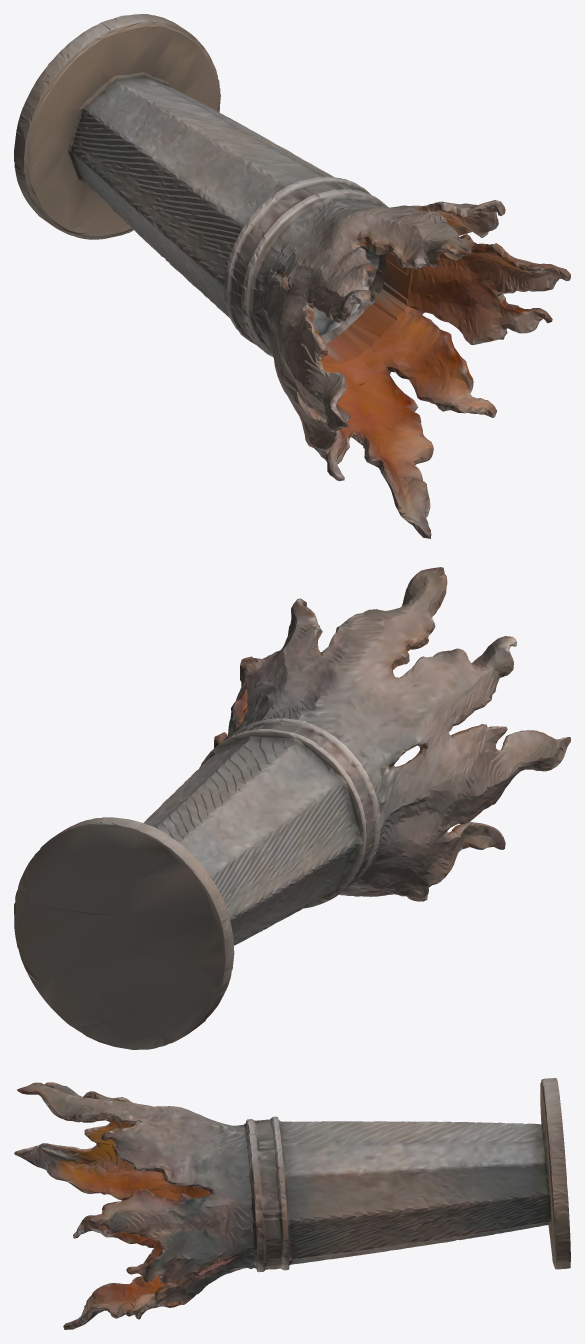
Rendered from H2-web.glb.
3 renders of one model, top to bottom at view 1: azimuth 30°, elevation 25°; view 2: azimuth 150°, elevation 25°; view 3: azimuth 270°, elevation 25°, orthographic. The views are drawn at different scales.
Parts seen in each view (by area): view 1: geometry_0; view 2: geometry_0; view 3: geometry_0.
Part boxes in pixels (x1=…): geometry_0: x1=14, y1=14, x2=570, y2=538; geometry_0: x1=14, y1=567, x2=570, y2=1049; geometry_0: x1=14, y1=1078, x2=570, y2=1329.
Size of the model in its own units: 0.0977 by 0.1025 by 0.2091.
